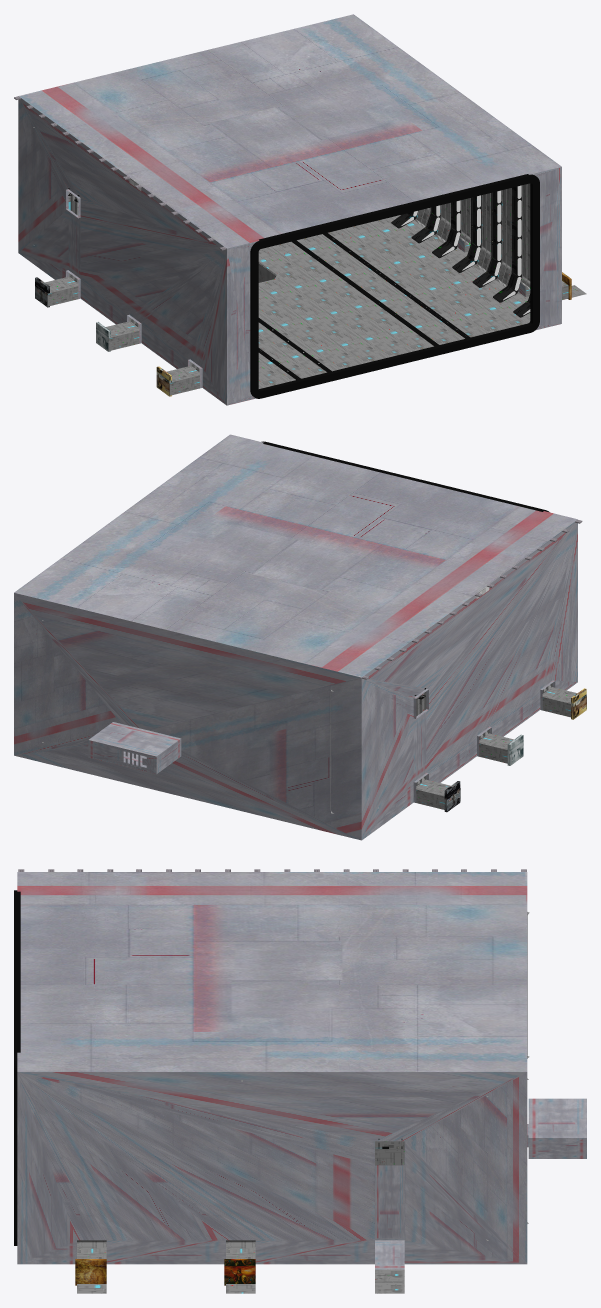
Rendered from Hangar.FBX.
3 renders of one model, top to bottom at view 1: azimuth 30°, elevation 25°; view 2: azimuth 150°, elevation 25°; view 3: azimuth 270°, elevation 25°, orthographic. The views are drawn at different scales.
Parts seen in each view (by area): view 1: Group028, piso4, DD MgntFld, Group20, Box97, Group21, Group22, Group23, Group24, Box345357, Box345355, Box345358; view 2: Group028, DD MgntFld, Box345358, Box345355, Box345357; view 3: Group028, DD MgntFld, piso4, Box345362, Box345360, Group26.
Part boxes in pixels (bbox=[...]): Group028: bbox=[18, 14, 561, 405]; piso4: bbox=[70, 215, 586, 388]; DD MgntFld: bbox=[250, 174, 539, 398]; Group20: bbox=[493, 183, 530, 302]; Box97: bbox=[258, 233, 470, 379]; Group21: bbox=[472, 188, 516, 294]; Group22: bbox=[452, 193, 495, 279]; Group23: bbox=[432, 198, 470, 258]; Group24: bbox=[411, 202, 455, 250]; Box345357: bbox=[96, 321, 139, 351]; Box345355: bbox=[36, 276, 78, 306]; Box345358: bbox=[157, 366, 199, 395]; Group028: bbox=[14, 434, 577, 840]; DD MgntFld: bbox=[261, 441, 549, 512]; Box345358: bbox=[542, 687, 586, 717]; Box345355: bbox=[416, 779, 460, 809]; Box345357: bbox=[479, 733, 523, 764]; Group028: bbox=[17, 872, 586, 1269]; DD MgntFld: bbox=[14, 890, 20, 1245]; piso4: bbox=[77, 1269, 404, 1293]; Box345362: bbox=[75, 1259, 106, 1285]; Box345360: bbox=[224, 1259, 255, 1285]; Group26: bbox=[375, 1141, 404, 1165].
Size of the model in its own units: 276 by 124 by 268.
